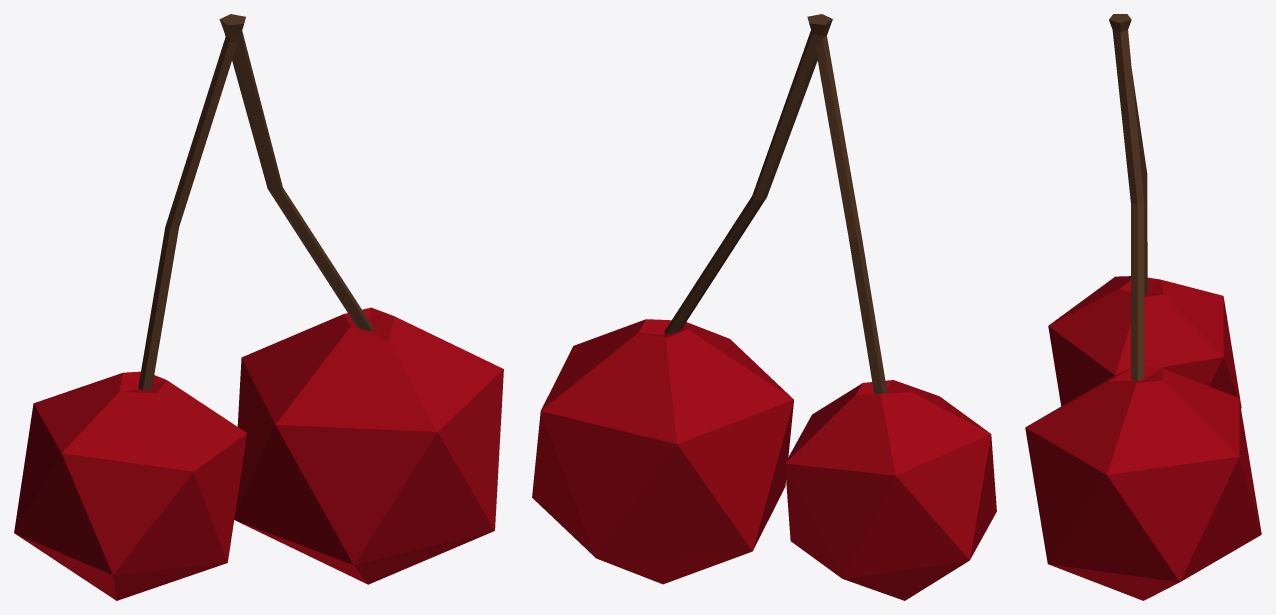
The model's file is cherry.gltf.
3 renders of one model, left to right at view 1: azimuth 30°, elevation 25°; view 2: azimuth 150°, elevation 25°; view 3: azimuth 270°, elevation 25°, orthographic. The views are drawn at different scales.
Parts seen in each view (by area): view 1: Cube; view 2: Cube; view 3: Cube.
Boxes of the visible parts, x1,y1,x2,y2 form: Cube: (14,14,503,600); Cube: (532,14,996,600); Cube: (1025,14,1261,600).
Size of the model in its own units: 3.55 by 4.61 by 1.9.
